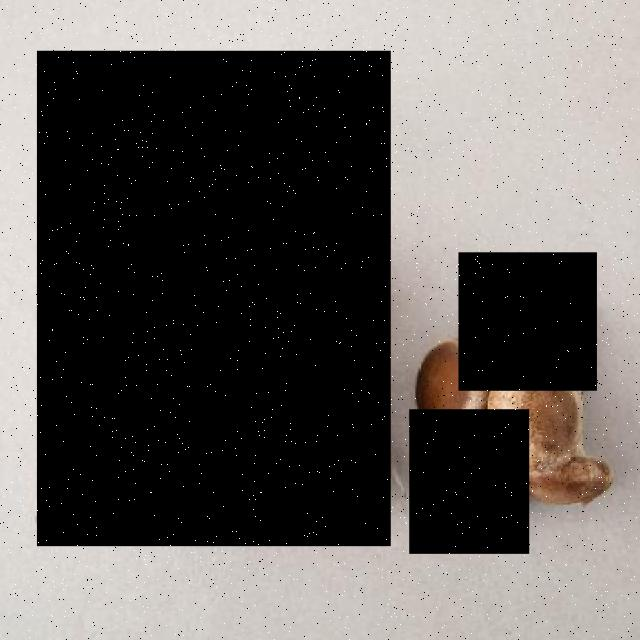Mushroom: (37, 51, 391, 546), (459, 253, 598, 392), (409, 409, 529, 554)
